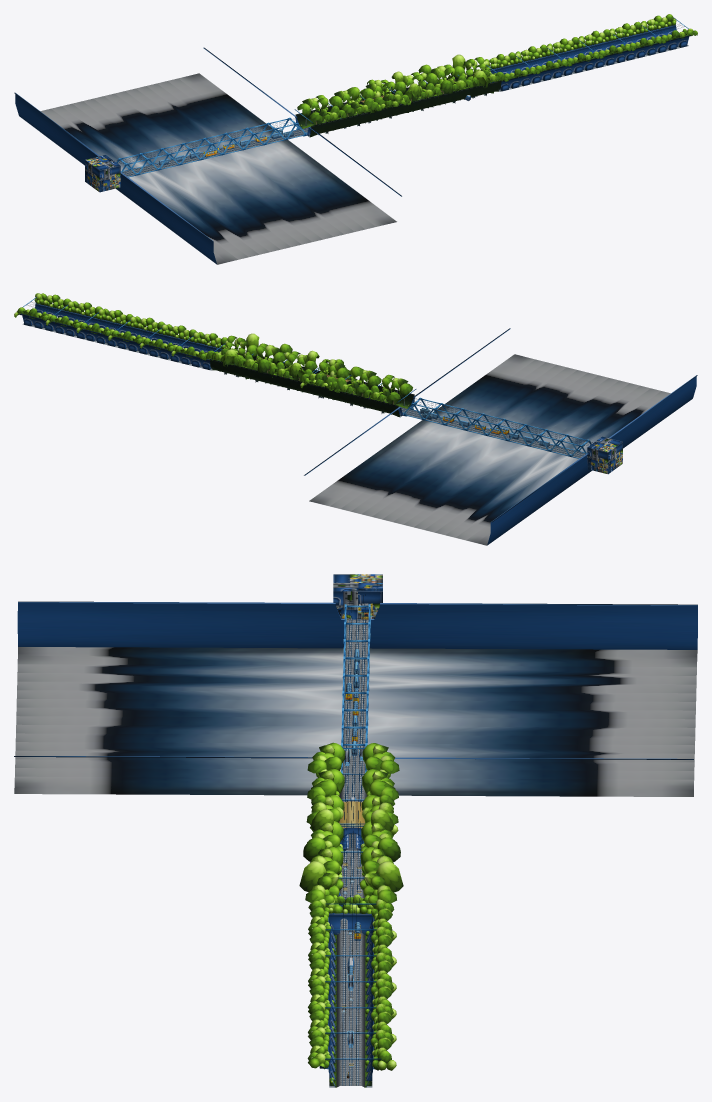
Rendered from subway-environment.gltf.
3 views of the same model, one above another, from view 1: azimuth 30°, elevation 25°; view 2: azimuth 150°, elevation 25°; view 3: azimuth 270°, elevation 25° (orthographic). The views are drawn at different scales.
Parts seen in each view (by area): view 1: StaticMeshActor_247, StaticMeshActor_256, StaticMeshActor_237, StaticMeshActor_236, StaticMeshActor_238, StaticMeshActor_248; view 2: StaticMeshActor_247, StaticMeshActor_256, StaticMeshActor_237, StaticMeshActor_236, StaticMeshActor_238, StaticMeshActor_248; view 3: StaticMeshActor_247, StaticMeshActor_256, StaticMeshActor_237, StaticMeshActor_236, StaticMeshActor_238, StaticMeshActor_248, StaticMeshActor_280, StaticMeshActor_260.
Boxes of the visible parts, bbox=[...] form: StaticMeshActor_247: bbox=[14, 47, 401, 264]; StaticMeshActor_256: bbox=[295, 54, 508, 137]; StaticMeshActor_237: bbox=[609, 14, 697, 61]; StaticMeshActor_236: bbox=[547, 29, 635, 76]; StaticMeshActor_238: bbox=[484, 44, 571, 91]; StaticMeshActor_248: bbox=[85, 155, 120, 192]; StaticMeshActor_247: bbox=[304, 328, 697, 545]; StaticMeshActor_256: bbox=[202, 333, 415, 417]; StaticMeshActor_237: bbox=[14, 293, 102, 339]; StaticMeshActor_236: bbox=[76, 308, 164, 354]; StaticMeshActor_238: bbox=[139, 324, 227, 370]; StaticMeshActor_248: bbox=[587, 436, 622, 474]; StaticMeshActor_247: bbox=[14, 594, 697, 796]; StaticMeshActor_256: bbox=[299, 742, 403, 930]; StaticMeshActor_237: bbox=[307, 1003, 396, 1087]; StaticMeshActor_236: bbox=[308, 952, 396, 1036]; StaticMeshActor_238: bbox=[308, 900, 396, 984]; StaticMeshActor_248: bbox=[333, 574, 382, 619]; StaticMeshActor_280: bbox=[327, 894, 373, 934]; StaticMeshActor_260: bbox=[310, 796, 398, 850].
Bounding box in the file's own units: 363 × 25.62 × 216.
7 materials, 7 textured.
